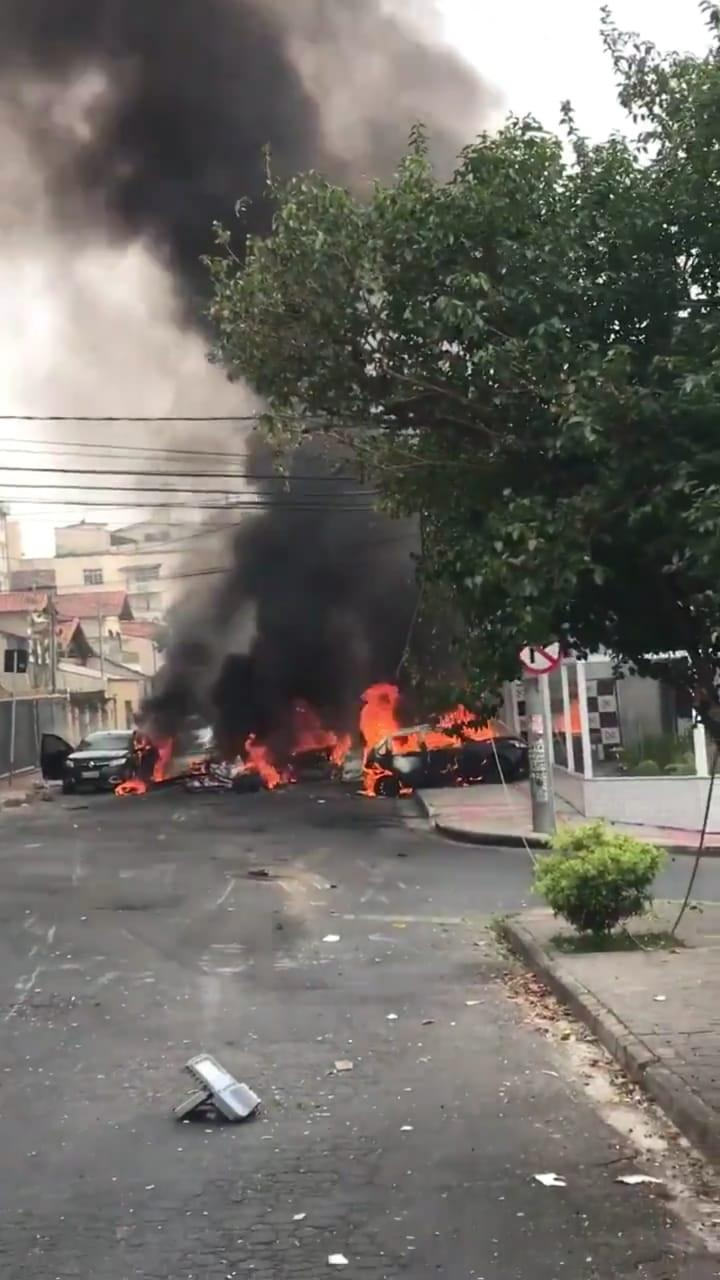Fire: (362, 682, 492, 795), (114, 738, 174, 800), (237, 737, 288, 791)
